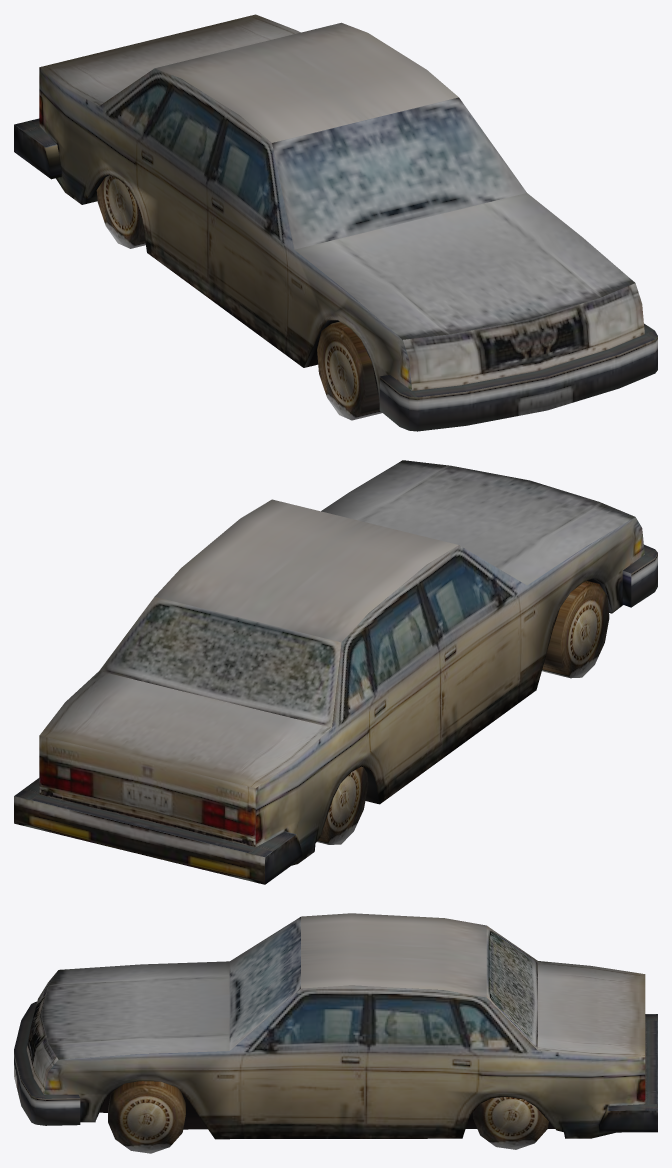
File: volvo.glb
3 views of the same model, one above another, from view 1: azimuth 30°, elevation 25°; view 2: azimuth 150°, elevation 25°; view 3: azimuth 270°, elevation 25° (orthographic). The views are drawn at different scales.
Parts seen in each view (by area): view 1: Plane; view 2: Plane; view 3: Plane.
Part boxes in pixels (x1,y1,x2,y2): Plane: (14,14,657,431); Plane: (14,460,657,884); Plane: (14,913,657,1153).
Size of the model in its own units: 8.04 by 6.01 by 22.26.
Materials: 1 (1 with a texture image).
